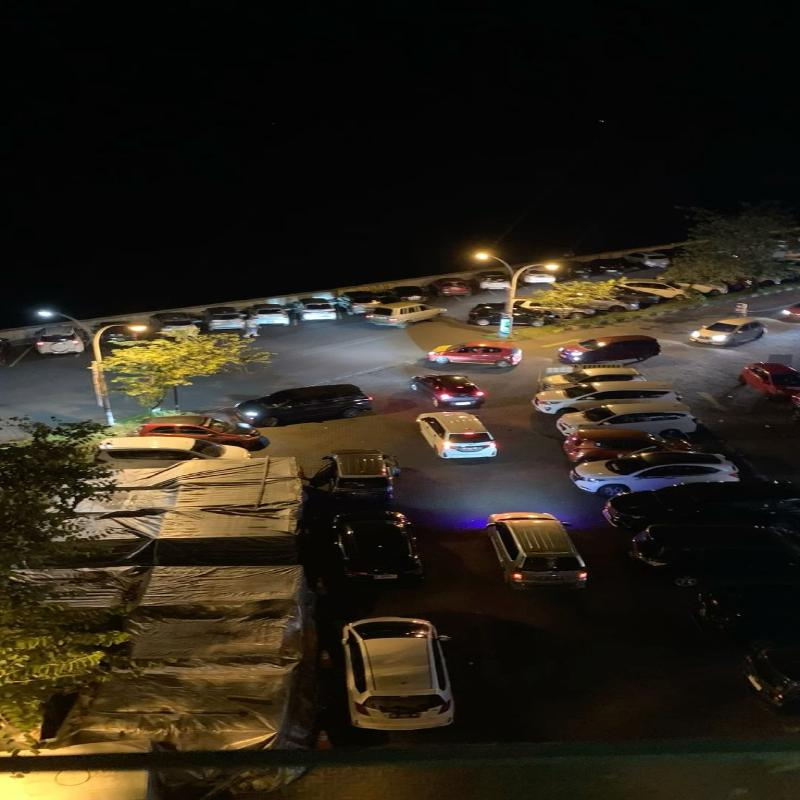license plate on a car: (390, 712, 422, 718), (462, 446, 481, 452), (455, 401, 472, 406)
